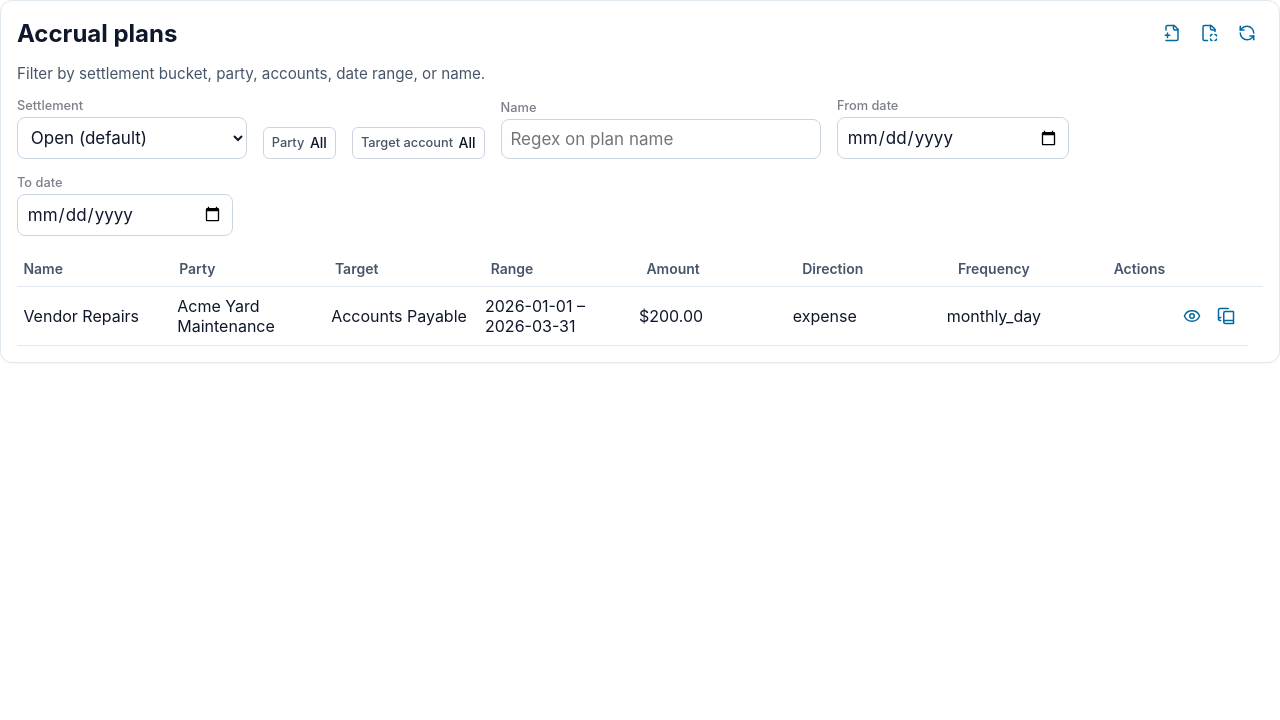
Scenario: AccrualPlansSection view modal › shows Prepaid rollup on expense plan view modal
Check: the text "Vendor Repairs" is shown, box [17,287,171,345]
Click the button named "View plan Vendor Repairs" at (1192, 316), box [1176,300,1208,332]
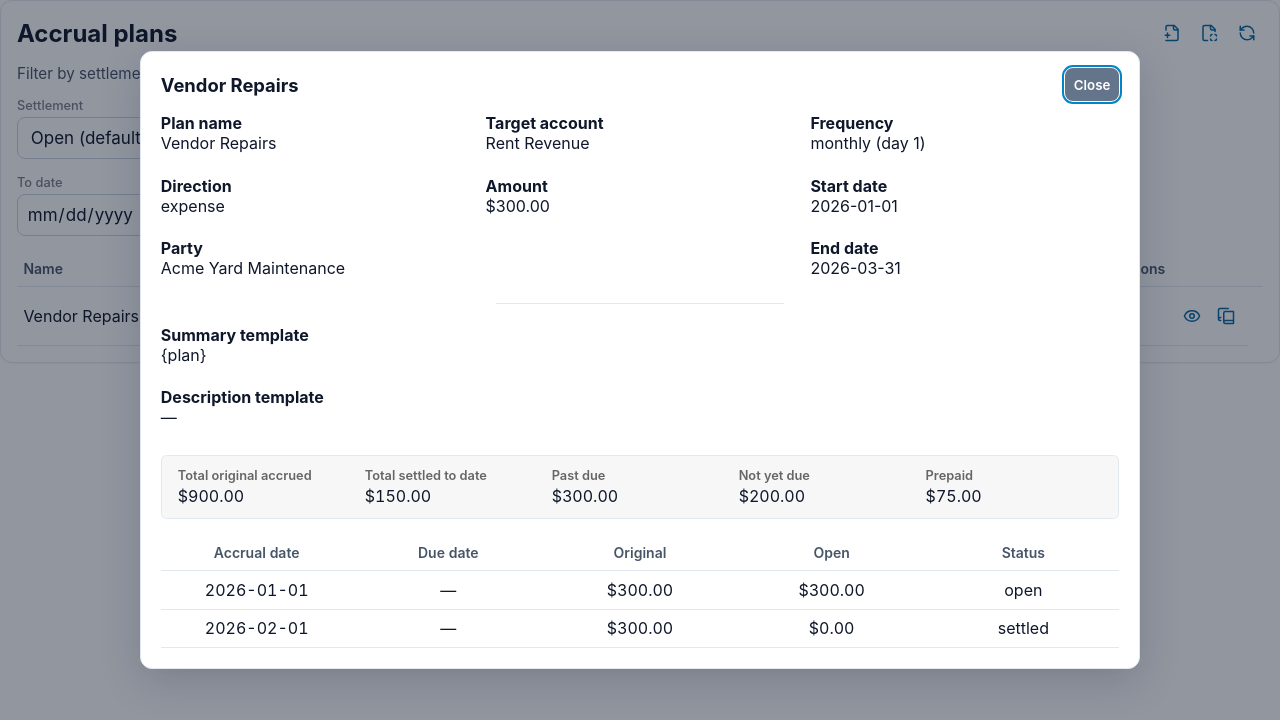
Check: the heading "Vendor Repairs" is shown, box [161,74,299,96]
Check: the text "Prepaid" is shown, box [926,468,973,483]
Check: the text "$75.00" is shown, box [926,486,982,506]
